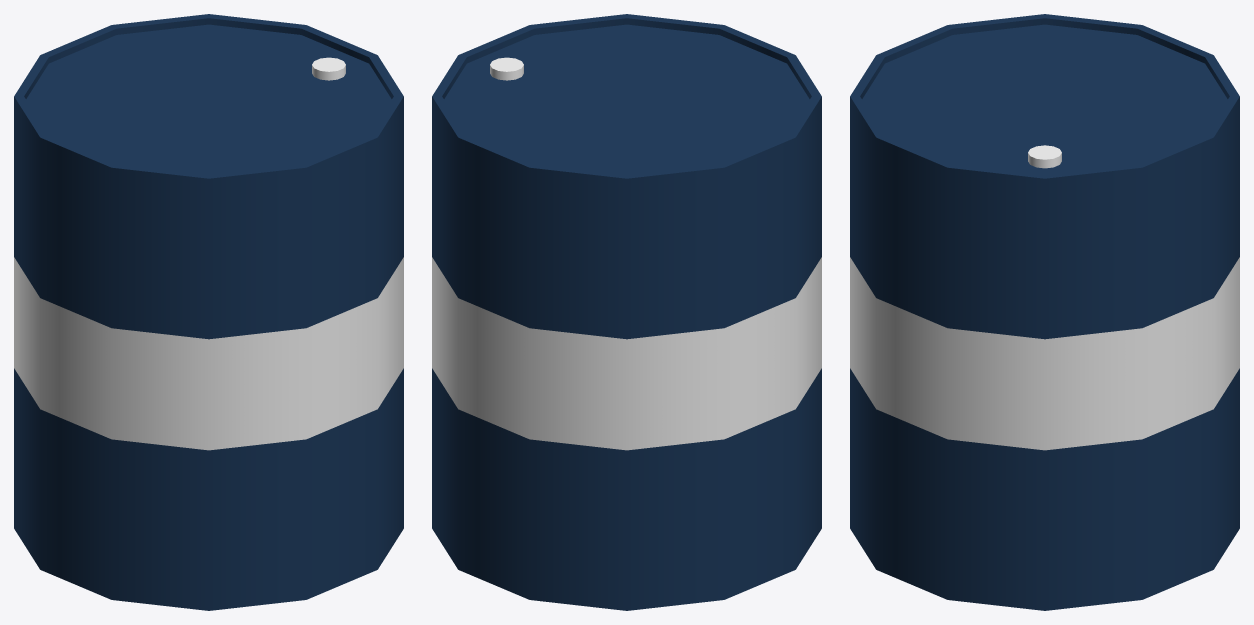
Rendered from Barrel_1.fbx.
3 renders of one model, left to right at view 1: azimuth 30°, elevation 25°; view 2: azimuth 150°, elevation 25°; view 3: azimuth 270°, elevation 25°, orthographic.
Visible parts, largest first — view 1: Barrel_1; view 2: Barrel_1; view 3: Barrel_1.
Boxes of the visible parts, x1,y1,x2,y2 form: Barrel_1: (14,14,403,610); Barrel_1: (432,14,821,610); Barrel_1: (850,14,1239,610).
Bounding box in the file's own units: 91.24 × 112 × 91.24.
